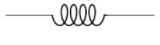inductor: (43, 0, 109, 35)
